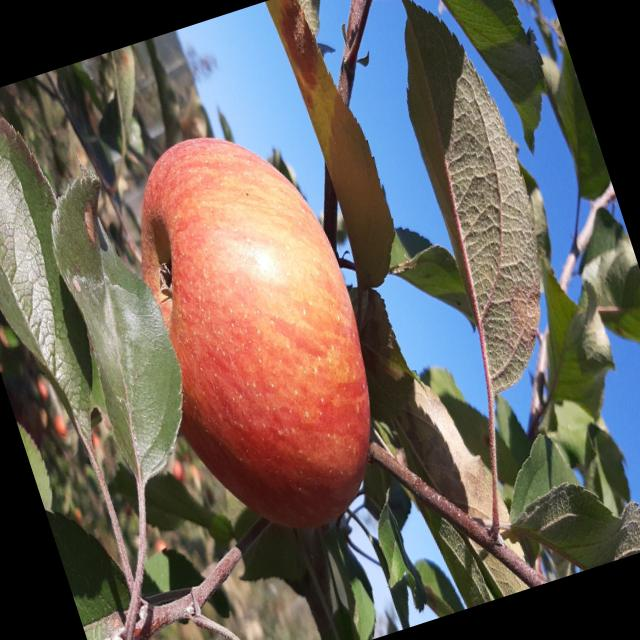fresh: (89, 95, 424, 567)
